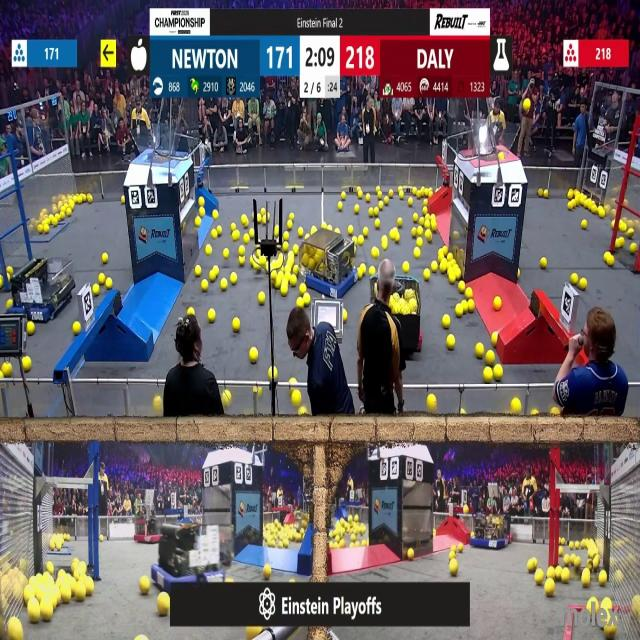ball_airborne: (524, 99, 531, 111), (499, 111, 505, 121), (498, 152, 504, 160)
ball_ground: (160, 594, 172, 615), (8, 622, 22, 640), (28, 604, 40, 624), (140, 578, 150, 596), (42, 606, 52, 624), (426, 394, 436, 412), (604, 625, 615, 640), (582, 570, 592, 586), (543, 581, 553, 597), (62, 588, 72, 604), (153, 397, 162, 414), (75, 587, 85, 602), (598, 570, 607, 586), (513, 398, 522, 414), (2, 362, 12, 376), (23, 356, 32, 371), (291, 391, 300, 406), (493, 364, 502, 378), (249, 348, 258, 362), (534, 570, 543, 584), (221, 393, 230, 407), (562, 568, 570, 583), (87, 582, 95, 597), (484, 366, 493, 379), (451, 560, 458, 576), (265, 564, 273, 578), (486, 351, 494, 365), (72, 321, 80, 335), (528, 558, 536, 572), (208, 310, 216, 323), (448, 337, 456, 350), (444, 315, 452, 328), (493, 296, 501, 309), (570, 556, 579, 567), (234, 318, 241, 332), (475, 344, 482, 358), (202, 280, 210, 292), (570, 274, 578, 286), (465, 302, 473, 314), (370, 247, 378, 258), (440, 263, 448, 274), (578, 278, 585, 290), (28, 322, 35, 334), (458, 281, 465, 293), (606, 253, 613, 265), (449, 272, 456, 284), (556, 566, 563, 578), (209, 272, 217, 282), (46, 562, 52, 575), (281, 284, 288, 295), (220, 279, 227, 290), (539, 257, 546, 268), (630, 243, 637, 254), (290, 275, 297, 286), (546, 567, 553, 578), (456, 270, 463, 281), (602, 598, 609, 609), (258, 292, 264, 304), (106, 278, 112, 290), (492, 335, 498, 347), (194, 266, 200, 278), (456, 306, 462, 318), (269, 366, 275, 378), (419, 215, 427, 224), (239, 255, 246, 265), (465, 288, 472, 298), (304, 294, 311, 304), (298, 284, 305, 294), (99, 275, 106, 285), (233, 232, 240, 242), (242, 215, 249, 225), (275, 278, 282, 288), (253, 264, 260, 274), (389, 229, 396, 239), (402, 263, 408, 274), (424, 270, 430, 281), (408, 550, 414, 561), (102, 252, 108, 263), (232, 274, 238, 285), (94, 284, 100, 295), (382, 239, 388, 250), (425, 231, 431, 242), (617, 239, 624, 248), (620, 221, 627, 230), (394, 232, 400, 242), (415, 248, 421, 258), (431, 263, 437, 273), (348, 224, 354, 234), (206, 245, 212, 255), (296, 296, 302, 306), (244, 235, 250, 245), (583, 219, 589, 229), (430, 221, 436, 231), (199, 198, 205, 208), (588, 602, 594, 612), (43, 223, 49, 233), (449, 552, 456, 560), (531, 410, 538, 418), (598, 210, 605, 218), (187, 308, 193, 317), (368, 268, 374, 277), (194, 217, 200, 226), (240, 246, 246, 255), (354, 205, 360, 214), (362, 226, 368, 235), (282, 243, 288, 252), (298, 408, 304, 417), (397, 217, 403, 226), (564, 556, 570, 565), (212, 210, 218, 219), (271, 271, 277, 280), (216, 225, 222, 234), (88, 193, 94, 202), (568, 189, 574, 198), (379, 202, 385, 211), (259, 255, 265, 264), (359, 266, 365, 275), (628, 227, 634, 236), (223, 248, 228, 258), (343, 312, 348, 322), (275, 225, 280, 235), (292, 242, 297, 252), (458, 542, 464, 550), (283, 233, 289, 241), (417, 239, 423, 247), (212, 231, 218, 239), (568, 202, 574, 210), (286, 220, 292, 228), (413, 214, 419, 222), (460, 410, 466, 418), (292, 267, 298, 275), (537, 188, 543, 196), (452, 543, 458, 551), (365, 193, 371, 201), (0, 277, 4, 289), (424, 220, 430, 228), (278, 253, 284, 261), (339, 203, 344, 212), (358, 237, 363, 246), (7, 298, 12, 307), (376, 219, 381, 228), (200, 208, 205, 217), (413, 229, 418, 238), (250, 230, 255, 239), (297, 229, 302, 238), (517, 271, 522, 280), (290, 378, 296, 385), (225, 576, 232, 582), (256, 215, 262, 222), (259, 208, 265, 215), (326, 223, 332, 230), (448, 253, 454, 260), (409, 199, 414, 207), (368, 208, 373, 216), (232, 222, 237, 230), (312, 225, 317, 233), (255, 249, 260, 257), (423, 207, 428, 215), (418, 226, 423, 234), (67, 208, 72, 216), (372, 208, 377, 216), (610, 220, 615, 228), (423, 200, 428, 208), (378, 191, 383, 199), (559, 546, 564, 554), (256, 386, 261, 394), (250, 255, 254, 264), (362, 540, 368, 546), (7, 268, 12, 275), (384, 199, 389, 206), (336, 226, 341, 233), (288, 213, 293, 220), (543, 189, 547, 197), (342, 194, 346, 202), (137, 636, 145, 640), (358, 194, 362, 202), (305, 234, 310, 240), (399, 191, 403, 198), (98, 538, 102, 545), (569, 541, 573, 548), (120, 197, 123, 205), (322, 222, 326, 228), (290, 577, 294, 583)
goal: (465, 125, 522, 160), (128, 131, 186, 160)
robot_blue: (151, 518, 238, 593), (9, 258, 74, 324), (299, 232, 358, 301), (473, 514, 511, 549)
robot_red: (372, 274, 426, 356), (134, 514, 162, 542)
